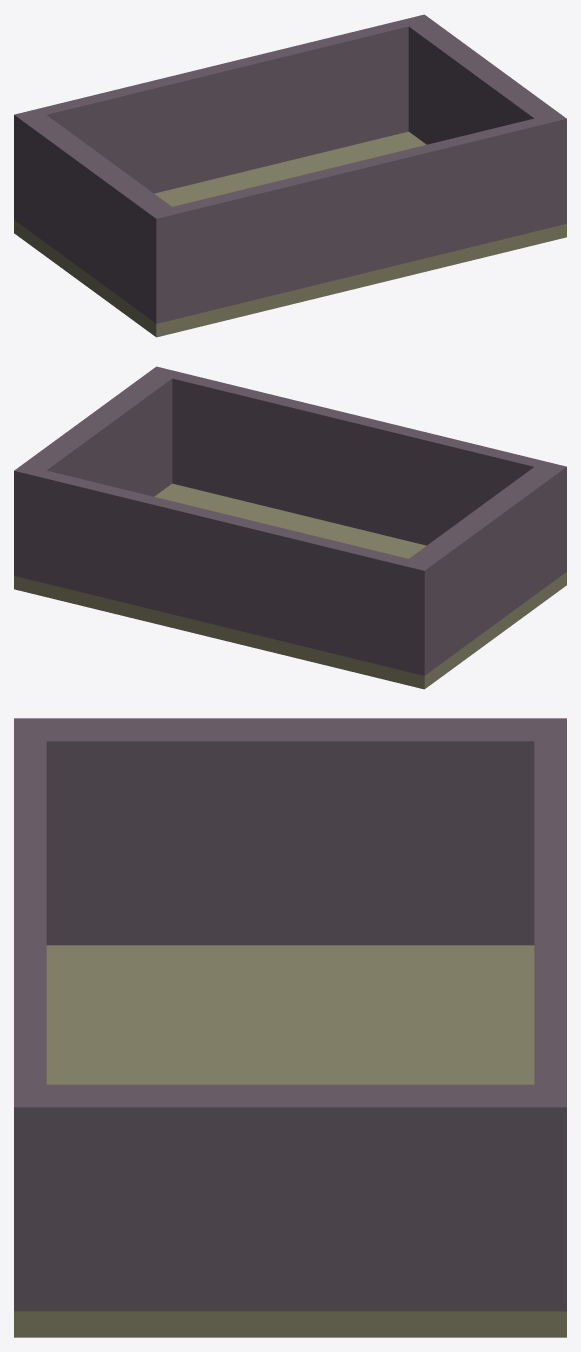
The model's file is draftRoom.fbx.
3 renders of one model, top to bottom at view 1: azimuth 30°, elevation 25°; view 2: azimuth 150°, elevation 25°; view 3: azimuth 270°, elevation 25°, orthographic. The views are drawn at different scales.
Visible parts, largest first — view 1: Cube, Cube.001; view 2: Cube, Cube.001; view 3: Cube, Cube.001.
Boxes of the visible parts, left/top/right/bottom form: Cube: left=14, top=14, right=566, bottom=323; Cube.001: left=14, top=131, right=566, bottom=337; Cube: left=14, top=366, right=566, bottom=675; Cube.001: left=14, top=483, right=566, bottom=689; Cube: left=14, top=718, right=566, bottom=1311; Cube.001: left=14, top=945, right=566, bottom=1337.
Bounding box in the file's own units: 8489 × 2343 × 5101.
